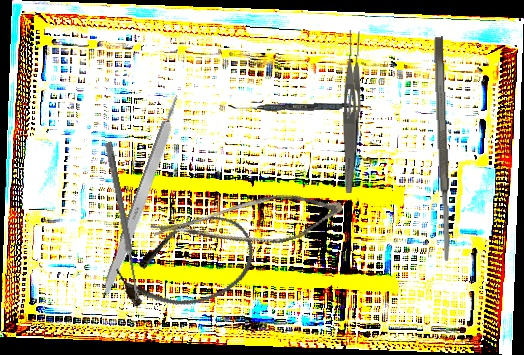Cannula: (109, 203, 266, 327)
Dressing Forceps: (342, 30, 363, 194)
Micro Scissor: (145, 167, 348, 282)
Scalpel Handle: (98, 93, 187, 302)
Spatula Surgical: (432, 36, 453, 262), (227, 100, 372, 114)
Surgical Spoon: (103, 141, 143, 301)
